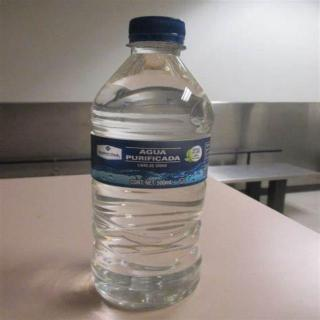Plastic-bottle: (84, 8, 224, 319)
